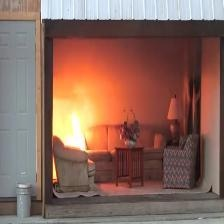fire: (56, 98, 94, 147)
